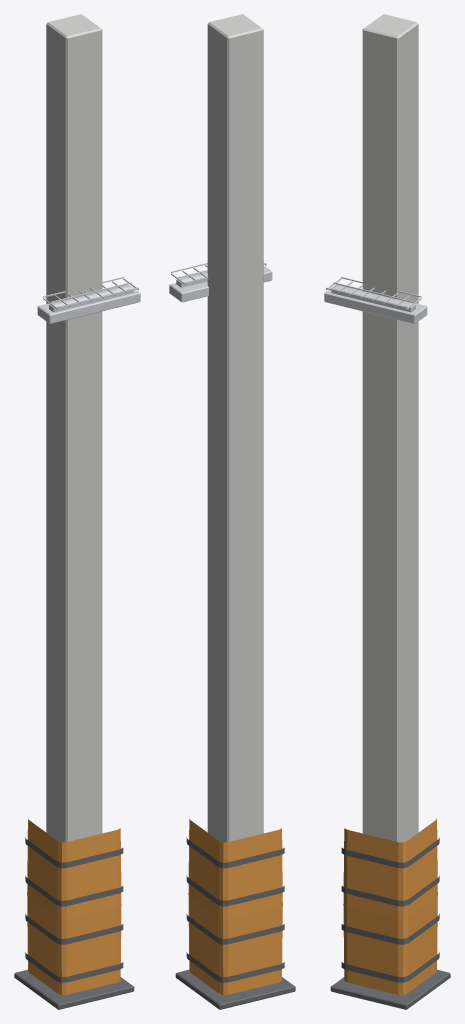
Rendered from warehouse-column-with-impact-guard.glb.
3 views of the same model, side by side, from view 1: azimuth 30°, elevation 25°; view 2: azimuth 210°, elevation 25°; view 3: azimuth 330°, elevation 25° (orthographic).
Parts seen in each view (by area): view 1: warehouse-column-and-guard; view 2: warehouse-column-and-guard; view 3: warehouse-column-and-guard.
Part boxes in pixels (<box>): warehouse-column-and-guard: <box>14,14,140,1009</box>; warehouse-column-and-guard: <box>169,14,295,1009</box>; warehouse-column-and-guard: <box>324,14,450,1009</box>.
Size of the model in its own units: 0.5 by 5.03 by 0.4425.
